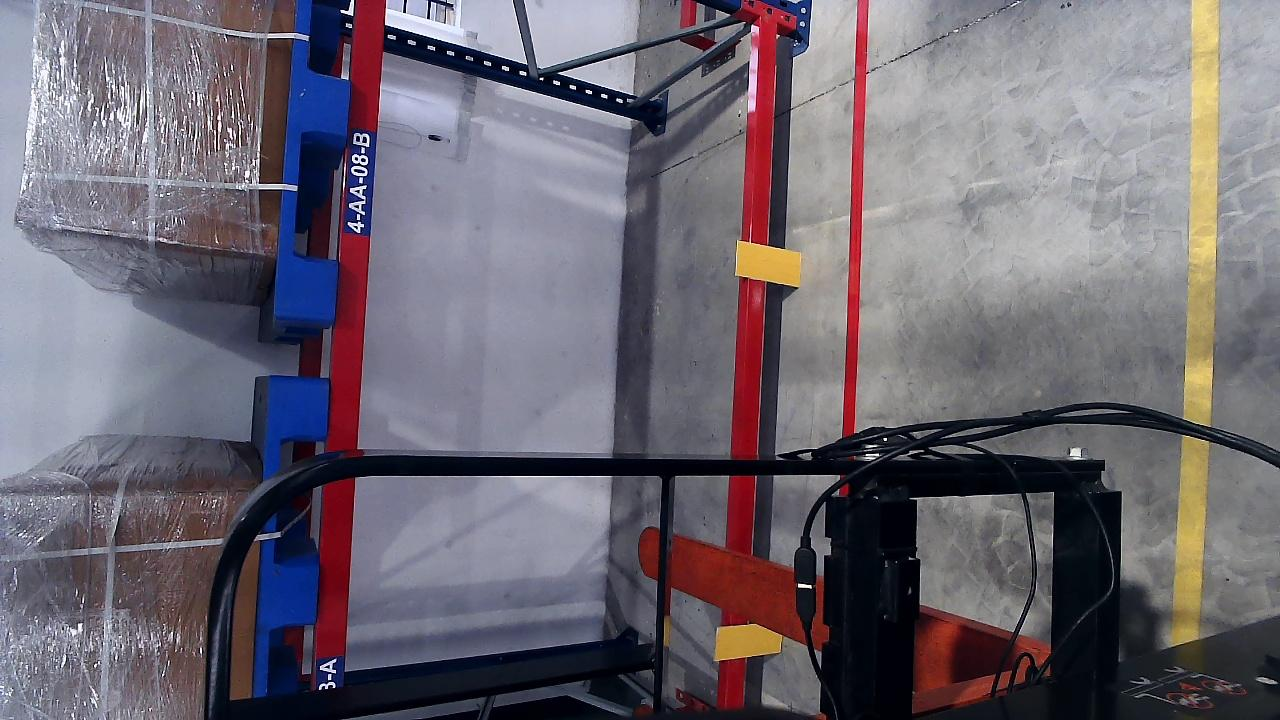h_rack: (311, 0, 389, 685), (718, 22, 780, 709)
orange_strip: (735, 241, 801, 287), (714, 625, 783, 661)
red_line: (840, 6, 869, 439)
small_pallet: (251, 378, 327, 695), (278, 0, 345, 319)
yellow_line: (1169, 0, 1221, 640)
